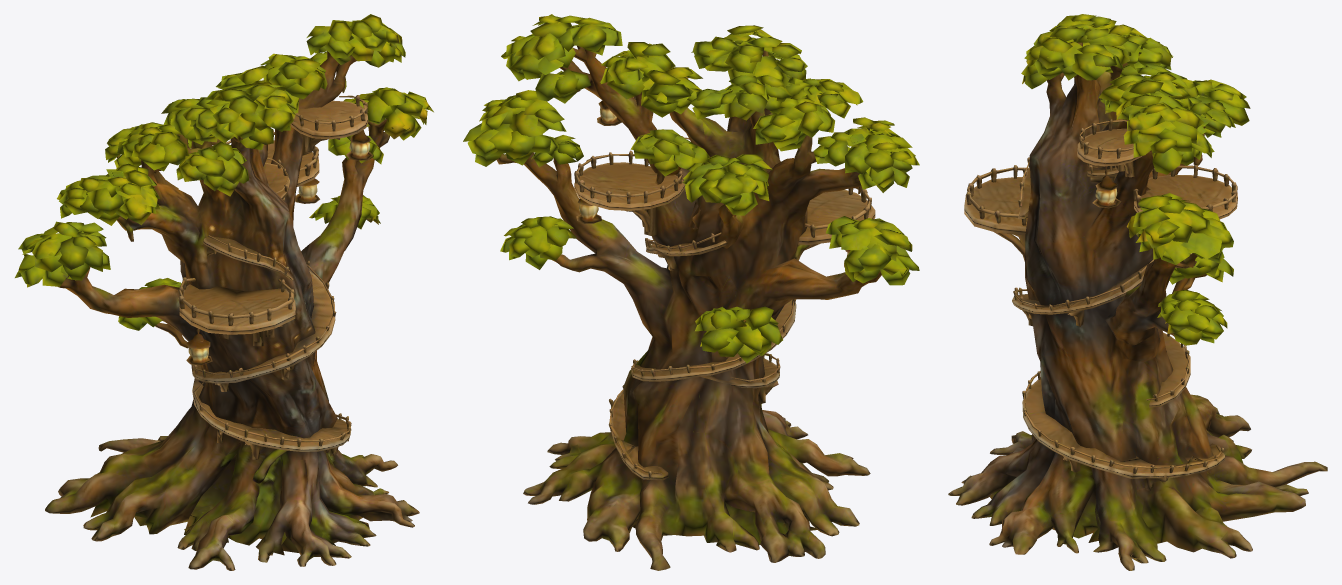
The model's file is evertree.glb.
3 renders of one model, left to right at view 1: azimuth 30°, elevation 25°; view 2: azimuth 150°, elevation 25°; view 3: azimuth 270°, elevation 25°, orthographic. The views are drawn at different scales.
Parts seen in each view (by area): view 1: geometry_0; view 2: geometry_0; view 3: geometry_0.
Part boxes in pixels (x1,y1,x2,y2): geometry_0: (15, 14, 433, 570); geometry_0: (463, 14, 919, 570); geometry_0: (948, 14, 1327, 570).
Size of the model in its own units: 0.9287 by 0.9478 by 0.7021.
1 material, 1 textured.
